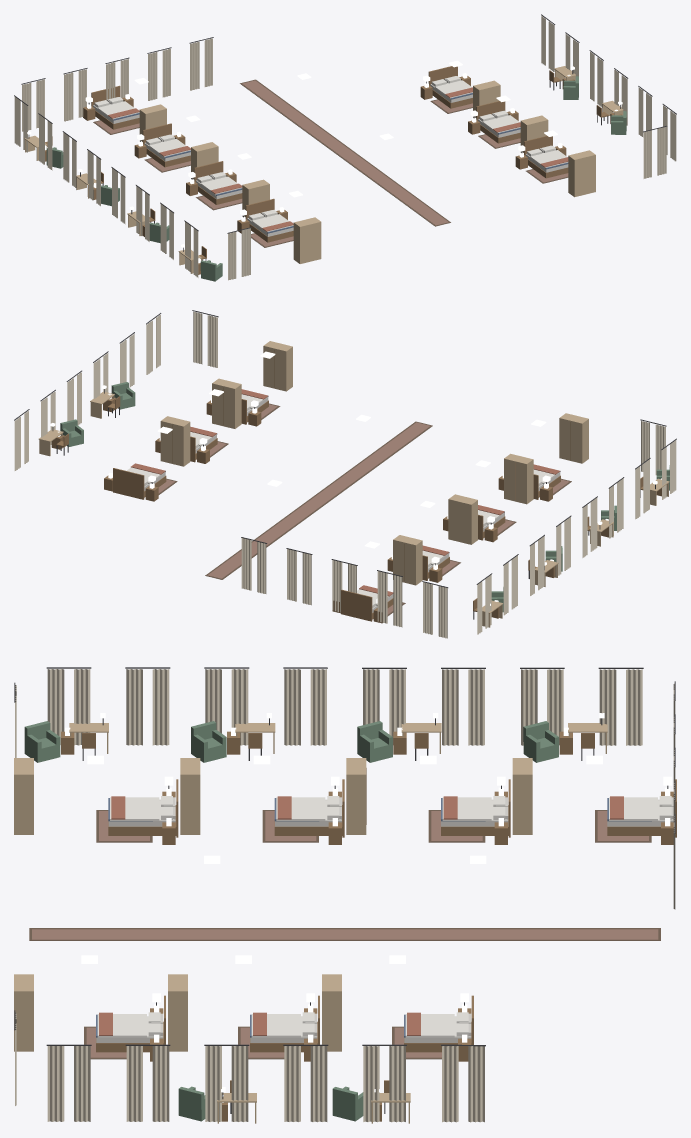
File: fine-s2.glb
The picture shows the model from 3 angles, top to bottom: view 1: azimuth 30°, elevation 25°; view 2: azimuth 150°, elevation 25°; view 3: azimuth 270°, elevation 25°; orthographic projection. The views are drawn at different scales.
Visible parts, largest first — view 1: soft-s2, dresser.013, dresser.009, bed-frame.012, bed-frame.011, bed-frame.013, bed-frame.008, bed-frame.007, bed-frame.010, bed-frame.009, dresser.008, dresser.010 (+3 smaller); view 2: soft-s2, dresser.011, dresser.013, dresser.012, dresser.007, dresser.010, dresser.009, dresser.008, bed-frame.007, bed-frame.010; view 3: soft-s2, dresser.010, dresser.011, dresser.012, dresser.008, dresser.013, dresser.007, dresser.009, lounge-chair.011, lounge-chair.010, lounge-chair.008, lounge-chair.009 (+9 smaller).
Boxes of the visible parts, x1,y1,x2,y2 form: soft-s2: [14, 14, 676, 280]; dresser.013: [293, 217, 321, 263]; dresser.009: [568, 150, 595, 197]; bed-frame.012: [194, 161, 242, 204]; bed-frame.011: [142, 123, 190, 167]; bed-frame.013: [245, 198, 293, 242]; bed-frame.008: [476, 101, 520, 143]; bed-frame.007: [428, 66, 472, 108]; bed-frame.010: [91, 85, 139, 129]; bed-frame.009: [524, 136, 568, 178]; dresser.008: [520, 115, 548, 152]; dresser.010: [139, 104, 166, 141]; soft-s2: [14, 310, 676, 638]; dresser.011: [448, 494, 477, 544]; dresser.013: [559, 413, 588, 463]; dresser.012: [504, 453, 533, 504]; dresser.007: [160, 416, 190, 466]; dresser.010: [393, 535, 422, 585]; dresser.009: [263, 341, 292, 391]; dresser.008: [212, 378, 241, 428]; bed-frame.007: [113, 468, 166, 499]; bed-frame.010: [341, 589, 393, 621]; soft-s2: [14, 667, 675, 1122]; dresser.010: [512, 758, 532, 834]; dresser.011: [346, 758, 366, 834]; dresser.012: [180, 758, 200, 834]; dresser.008: [168, 974, 187, 1051]; dresser.013: [14, 758, 33, 834]; dresser.007: [322, 974, 341, 1051]; dresser.009: [14, 974, 33, 1051]; lounge-chair.011: [24, 721, 60, 762]; lounge-chair.010: [191, 721, 226, 762]; lounge-chair.008: [523, 721, 558, 762]; lounge-chair.009: [357, 721, 392, 762].
Size of the model in its own units: 26.92 by 2.61 by 19.94.
